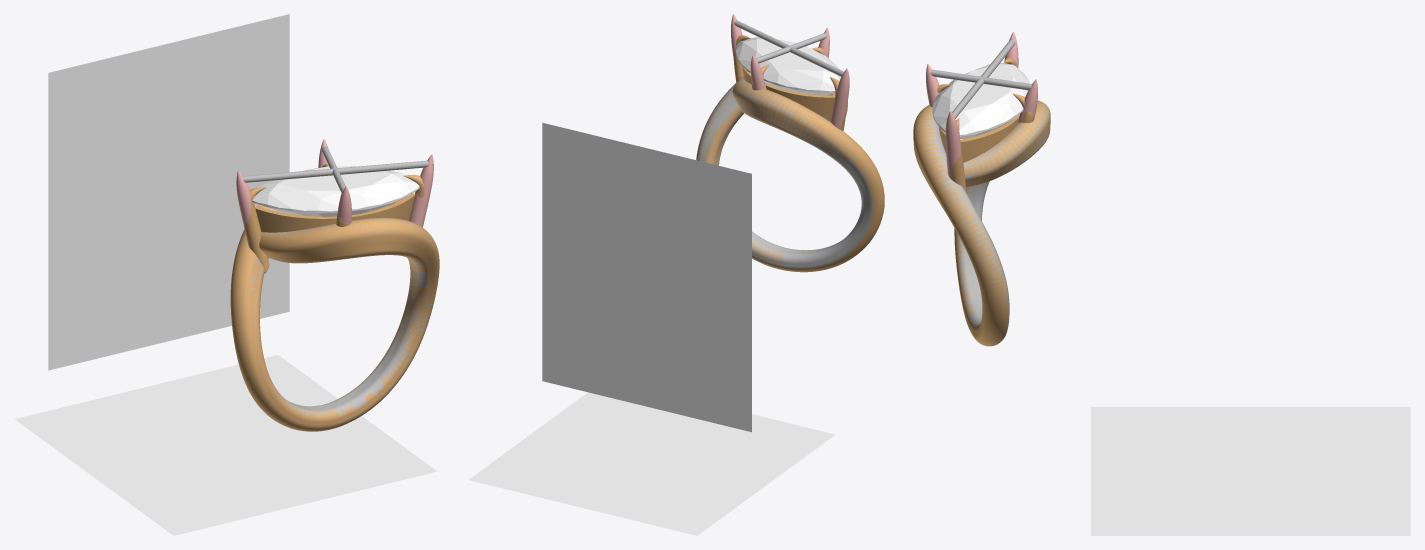
3 renders of one model, left to right at view 1: azimuth 30°, elevation 25°; view 2: azimuth 150°, elevation 25°; view 3: azimuth 270°, elevation 25°, orthographic. The views are drawn at different scales.
Visible parts, largest first — view 1: LR-123dm, Diamond_Marquise; view 2: LR-123dm, Diamond_Marquise; view 3: LR-123dm, Diamond_Marquise.
Boxes of the visible parts, <box> form: LR-123dm: <box>14,14,439,535</box>; Diamond_Marquise: <box>252,166,419,216</box>; LR-123dm: <box>468,14,884,535</box>; Diamond_Marquise: <box>736,37,840,95</box>; LR-123dm: <box>913,31,1410,535</box>; Diamond_Marquise: <box>932,63,1030,138</box>.
Bounding box in the file's own units: 3.33 × 4.42 × 5.14.
